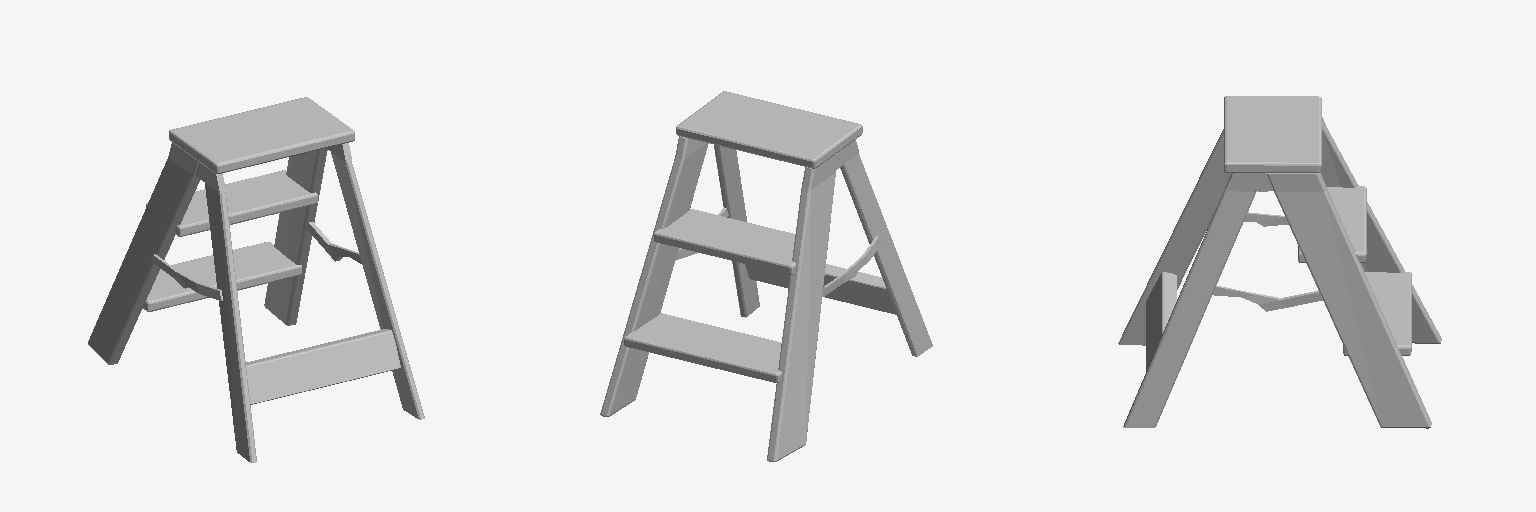
The model's file is Stair.obj.
3 views of the same model, side by side, from view 1: azimuth 30°, elevation 25°; view 2: azimuth 150°, elevation 25°; view 3: azimuth 270°, elevation 25° (orthographic).
Parts seen in each view (by area): view 1: StoolLOW_Baked; view 2: StoolLOW_Baked; view 3: StoolLOW_Baked.
Boxes of the visible parts, x1=… form: StoolLOW_Baked: x1=88, y1=97, x2=424, y2=462; StoolLOW_Baked: x1=600, y1=91, x2=932, y2=461; StoolLOW_Baked: x1=1118, y1=96, x2=1441, y2=428.
Bounding box in the file's own units: 1.3 × 1.71 × 1.96.